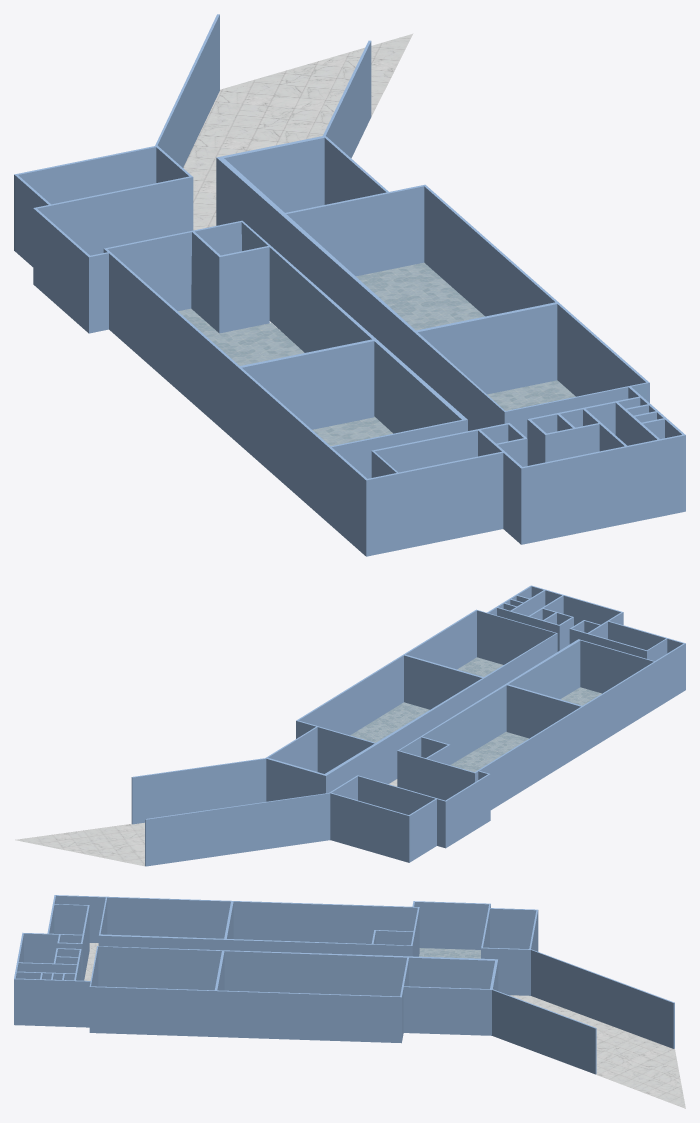
File: D_9_GF_Texture.glb
The picture shows the model from 3 angles, top to bottom: view 1: azimuth 30°, elevation 25°; view 2: azimuth 150°, elevation 25°; view 3: azimuth 270°, elevation 25°; orthographic projection. The views are drawn at different scales.
Visible parts, largest first — view 1: Walls.001, Mesh20.002, Travel Studio, Alif Crae, class1, Bolt & Volt Room; view 2: Walls.001, Mesh20.002, Travel Studio, Alif Crae, class1; view 3: Walls.001, Mesh20.002, Mesh6.
Part boxes in pixels (<box>): Walls.001: <box>14,14,685,556</box>; Mesh20.002: <box>183,34,412,229</box>; Travel Studio: <box>356,262,484,330</box>; Alif Crae: <box>178,308,374,416</box>; class1: <box>487,380,575,410</box>; Bolt & Volt Room: <box>312,417,392,446</box>; Walls.001: <box>131,585,685,866</box>; Mesh20.002: <box>15,822,145,866</box>; Travel Studio: <box>350,702,429,742</box>; Alif Crae: <box>450,731,528,772</box>; class1: <box>457,657,503,676</box>; Walls.001: <box>14,895,674,1074</box>; Mesh20.002: <box>519,996,685,1108</box>; Mesh6: <box>419,948,480,958</box>.
Size of the model in its own units: 6.99 by 0.8924 by 11.82.
3 materials, 3 textured.
